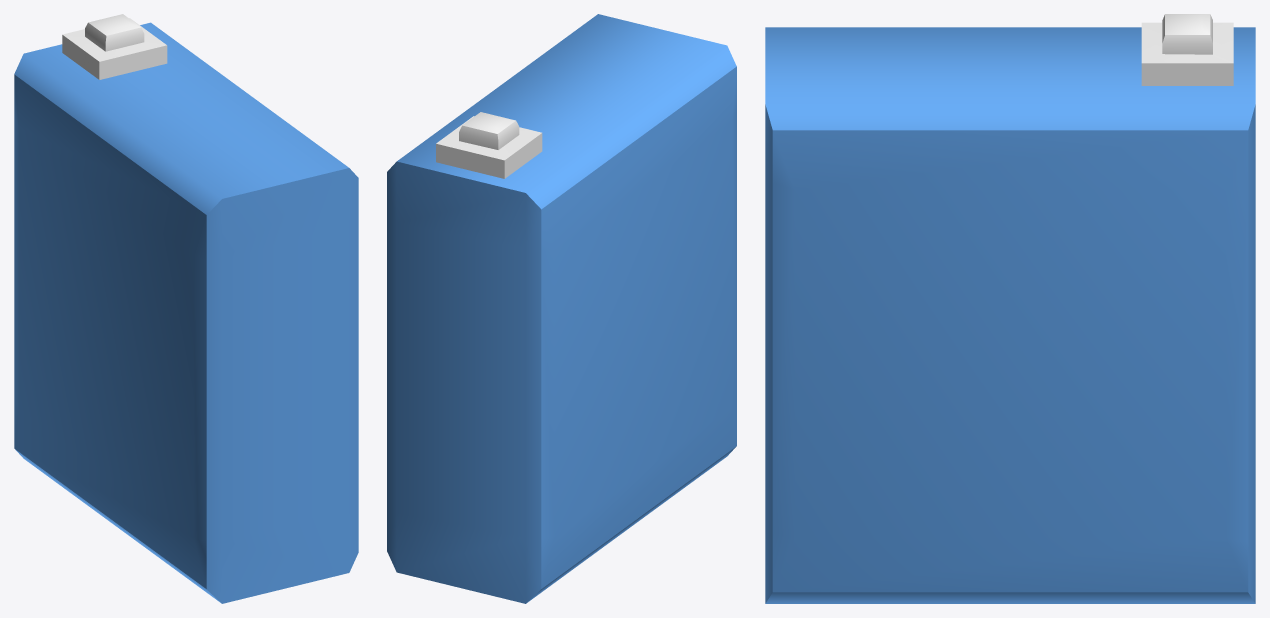
3 renders of one model, left to right at view 1: azimuth 30°, elevation 25°; view 2: azimuth 150°, elevation 25°; view 3: azimuth 270°, elevation 25°, orthographic. The views are drawn at different scales.
Visible parts, largest first — view 1: Box005; view 2: Box005; view 3: Box005.
Part boxes in pixels (left/top/right/bottom): Box005: left=14, top=14, right=358, bottom=603; Box005: left=387, top=14, right=736, bottom=603; Box005: left=765, top=14, right=1255, bottom=603.
Bounding box in the file's own units: 4.22 × 11.07 × 9.05.
